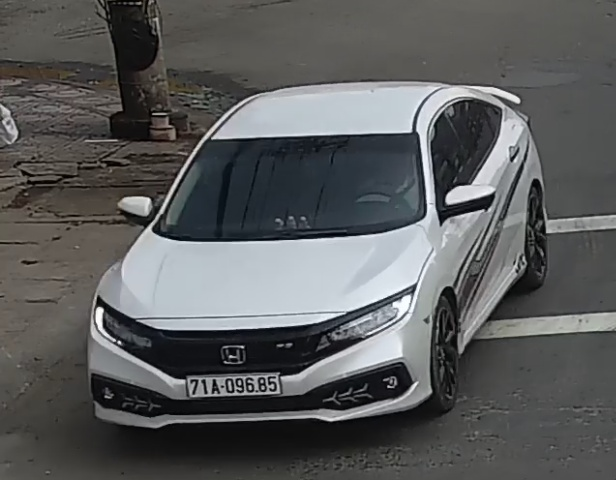vehicle plate: (180, 369, 293, 399)
